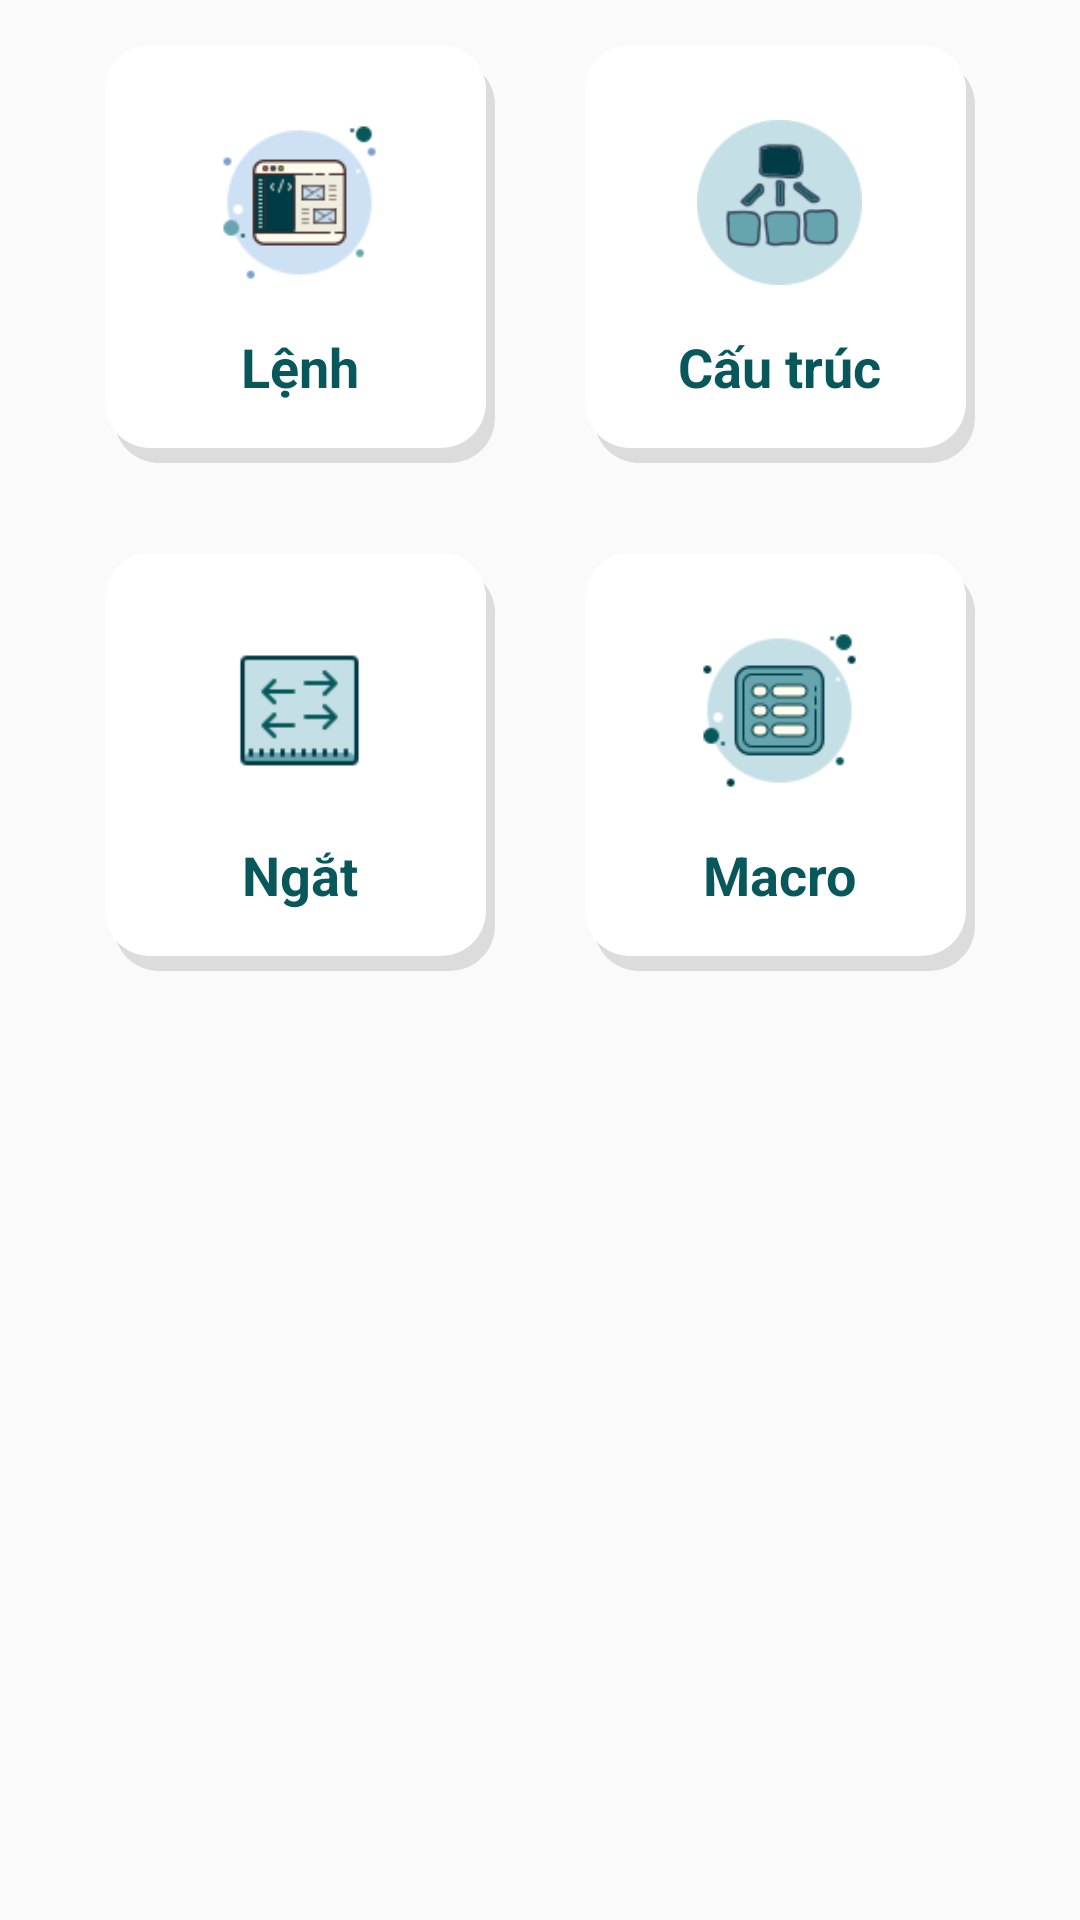

Icon bounding boxes for this 1080 x 1920 phone screenshot, format (x1, y1, x2, y2):
lenh: (223, 126, 376, 279)
structure: (697, 120, 862, 285)
